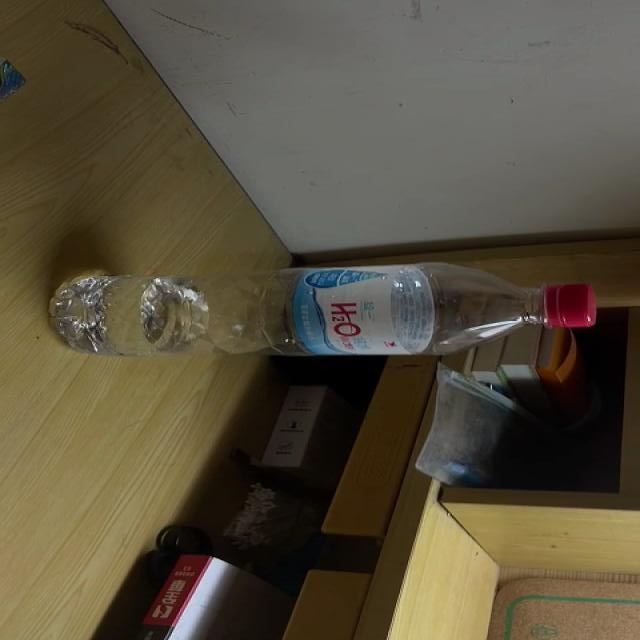Water: (48, 262, 600, 358)
